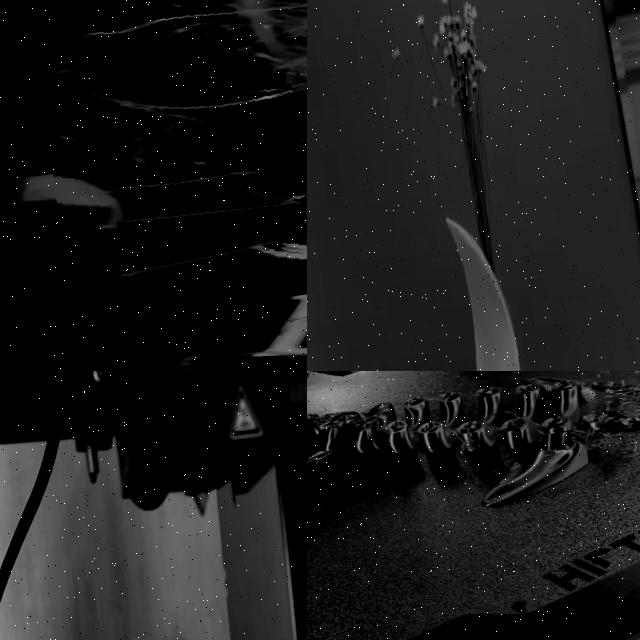spaghetti: (15, 0, 307, 296), (576, 371, 640, 462)
